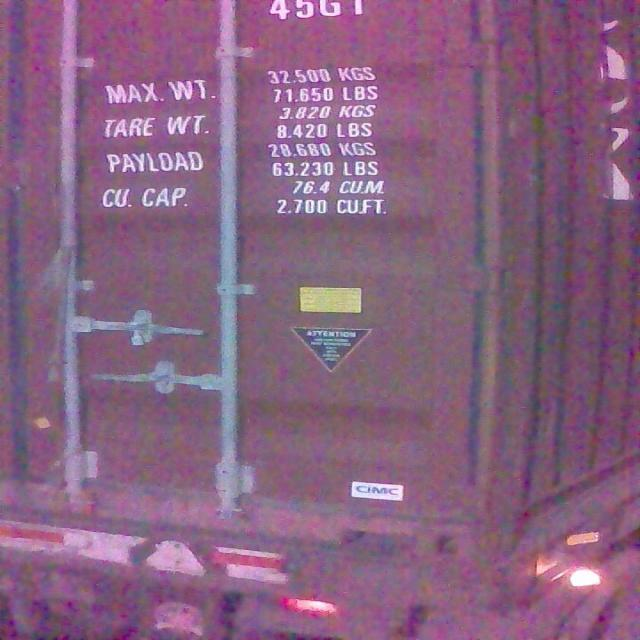seal: (128, 316, 149, 349)
